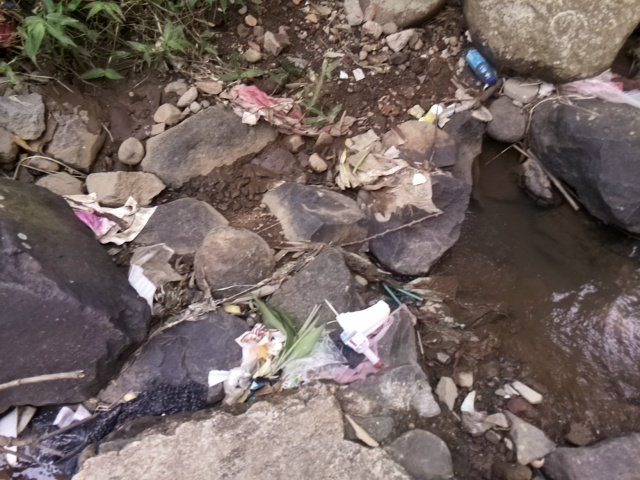Sampah_Botol_Plastik: (460, 42, 502, 87)
Sampah_Plastik: (214, 318, 413, 390), (66, 188, 149, 245), (219, 82, 314, 130), (557, 69, 640, 111)
Sampah_Styrofoam: (334, 299, 392, 337), (125, 264, 163, 310), (418, 102, 443, 123)
